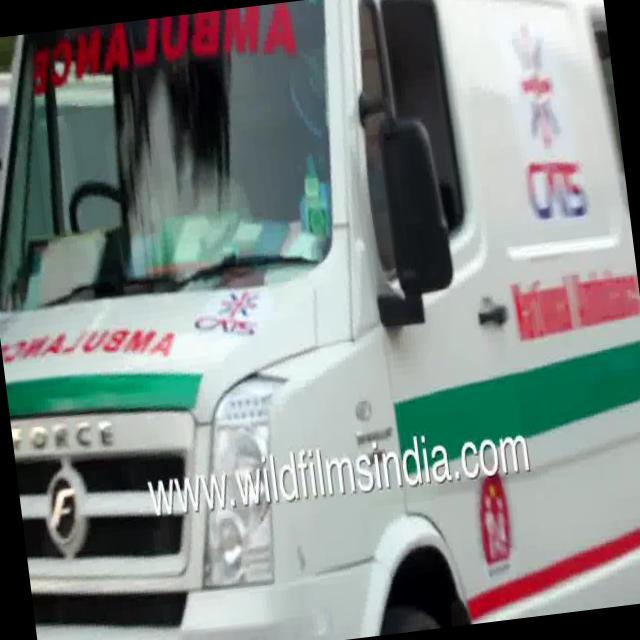ambulance: (0, 0, 640, 491), (24, 449, 640, 640)
